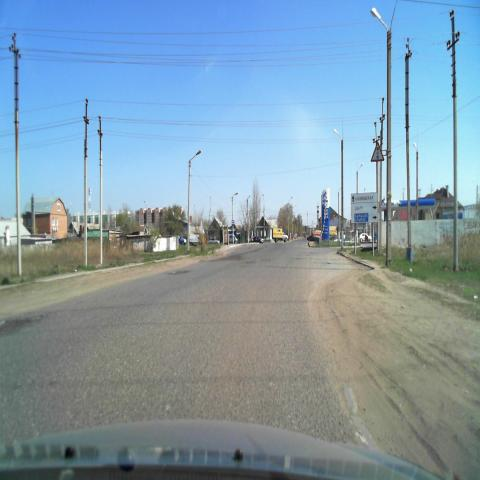1_8: (370, 142, 384, 163)
